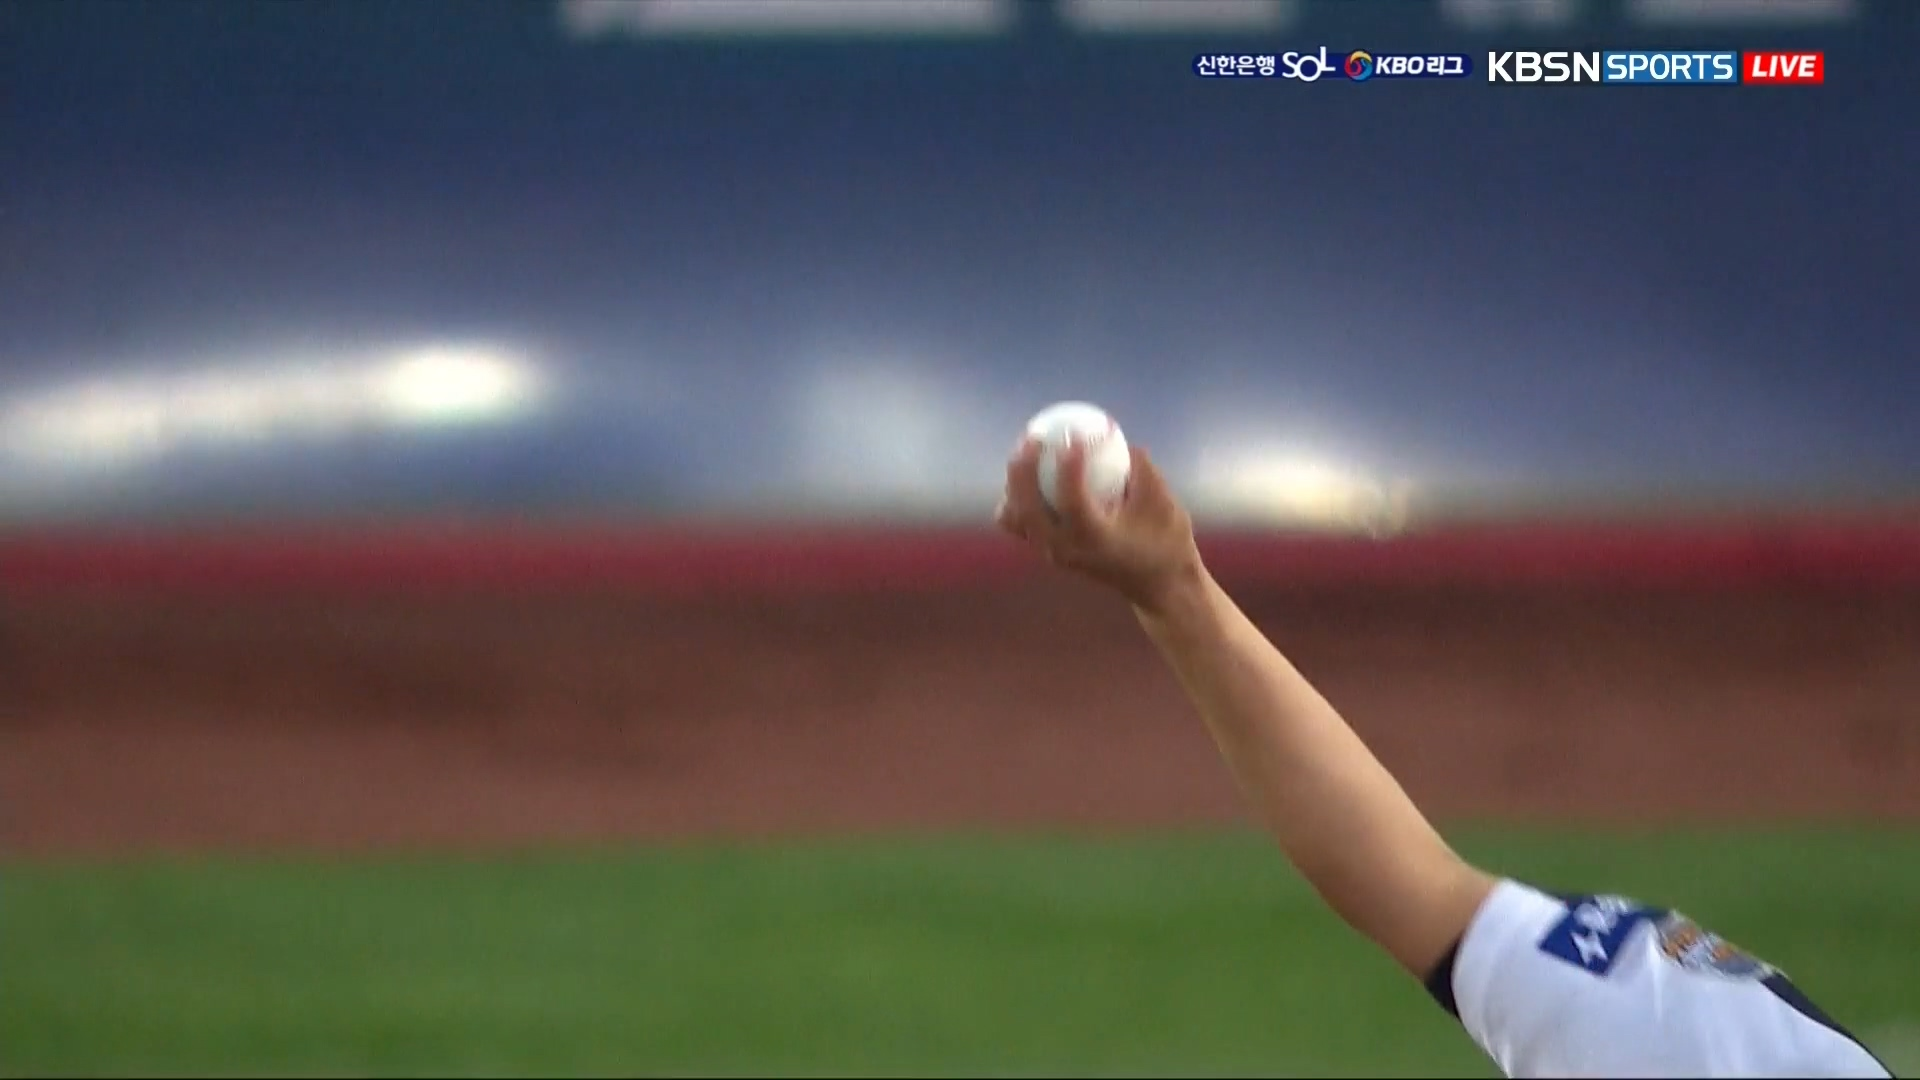zoomin_hand: (985, 389, 1460, 949)
